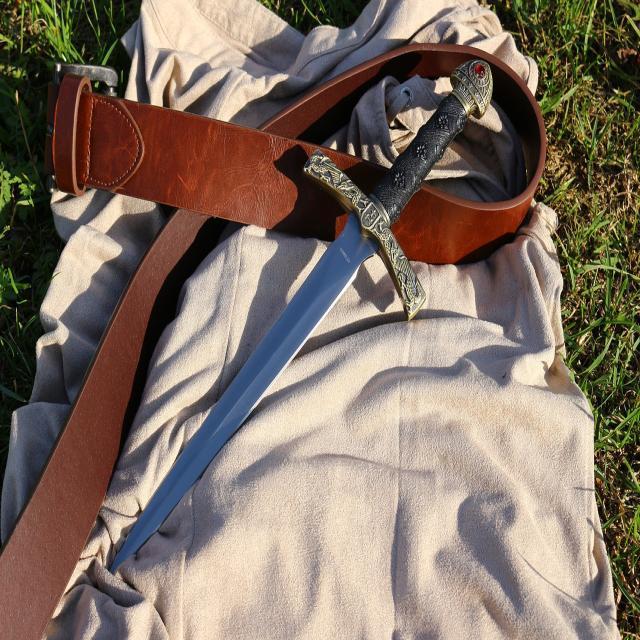Knife: (110, 59, 492, 571)
